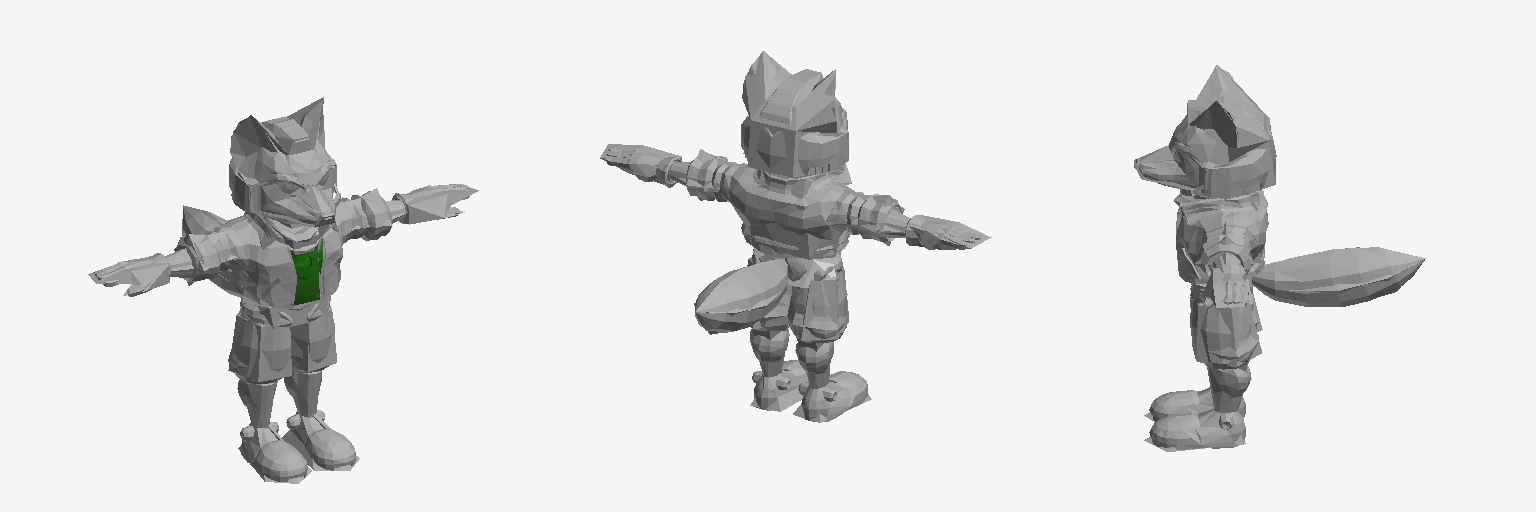
The picture shows the model from 3 angles: view 1: azimuth 30°, elevation 25°; view 2: azimuth 150°, elevation 25°; view 3: azimuth 270°, elevation 25°; orthographic projection.
Parts seen in each view (by area): view 1: Joint_0_Object_28, Joint_0_Object_2, Joint_0_Object_12, Joint_0_Object_22, Joint_0_Object_10, Joint_0_Object_36, Joint_0_Object_62, Joint_0_Object_16, Joint_0_Object_48, Joint_0_Object_7, Joint_0_Object_5, Joint_0_Object_65 (+18 smaller); view 2: Joint_0_Object_71, Joint_0_Object_27, Joint_41_Object_0_SINGLE, Joint_0_Object_1, Joint_0_Object_50, Joint_0_Object_53, Joint_0_Object_12, Joint_0_Object_56, Joint_0_Object_33, Joint_0_Object_5, Joint_0_Object_10, Joint_0_Object_7 (+16 smaller); view 3: Joint_0_Object_71, Joint_0_Object_10, Joint_41_Object_0_SINGLE, Joint_0_Object_28, Joint_0_Object_2, Joint_0_Object_50, Joint_0_Object_5, Joint_0_Object_12, Joint_0_Object_22, Joint_0_Object_31, Joint_0_Object_30, Joint_0_Object_53 (+13 smaller).
Part boxes in pixels (bbox=[...]): Joint_0_Object_28: bbox=[222, 207, 345, 308]; Joint_0_Object_2: bbox=[228, 296, 334, 383]; Joint_0_Object_12: bbox=[241, 423, 307, 481]; Joint_0_Object_22: bbox=[255, 141, 332, 206]; Joint_0_Object_10: bbox=[291, 412, 355, 470]; Joint_0_Object_36: bbox=[228, 306, 336, 381]; Joint_0_Object_62: bbox=[395, 187, 478, 224]; Joint_0_Object_16: bbox=[257, 188, 335, 228]; Joint_0_Object_48: bbox=[230, 101, 324, 169]; Joint_0_Object_7: bbox=[237, 380, 277, 428]; Joint_0_Object_5: bbox=[284, 370, 321, 417]; Joint_0_Object_65: bbox=[88, 256, 169, 295]; Joint_0_Object_71: bbox=[695, 259, 787, 332]; Joint_0_Object_27: bbox=[729, 175, 835, 250]; Joint_41_Object_0_SINGLE: bbox=[741, 74, 848, 174]; Joint_0_Object_1: bbox=[752, 249, 837, 342]; Joint_0_Object_50: bbox=[742, 51, 836, 132]; Joint_0_Object_53: bbox=[748, 69, 848, 177]; Joint_0_Object_12: bbox=[801, 371, 867, 421]; Joint_0_Object_56: bbox=[748, 169, 842, 259]; Joint_0_Object_33: bbox=[605, 146, 680, 179]; Joint_0_Object_5: bbox=[750, 329, 789, 377]; Joint_0_Object_10: bbox=[754, 360, 808, 410]; Joint_0_Object_7: bbox=[795, 342, 833, 388]; Joint_0_Object_71: bbox=[1252, 247, 1425, 306]; Joint_0_Object_10: bbox=[1149, 409, 1245, 449]; Joint_41_Object_0_SINGLE: bbox=[1193, 97, 1276, 196]; Joint_0_Object_28: bbox=[1176, 207, 1264, 283]; Joint_0_Object_2: bbox=[1190, 283, 1237, 368]; Joint_0_Object_50: bbox=[1197, 65, 1269, 161]; Joint_0_Object_5: bbox=[1207, 365, 1251, 412]; Joint_0_Object_12: bbox=[1149, 387, 1245, 421]; Joint_0_Object_22: bbox=[1169, 124, 1215, 185]; Joint_0_Object_31: bbox=[1180, 191, 1259, 225]; Joint_0_Object_30: bbox=[1198, 235, 1250, 277]; Joint_0_Object_53: bbox=[1188, 96, 1275, 197].
Size of the model in its own units: 19.93 by 17.23 by 13.15.
77 materials, 1 textured.